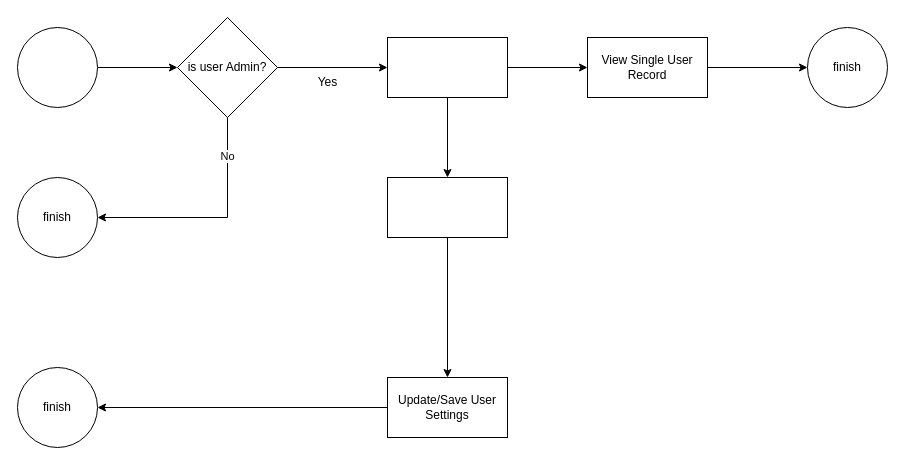
Image size: 905x465. Some labels were removed from this diagram. Each missing label, with the centre of its shape:
"start" goes at pixel 57 67.
"View User Settings" goes at pixel 447 207.
"View Users List" goes at pixel 447 67.
